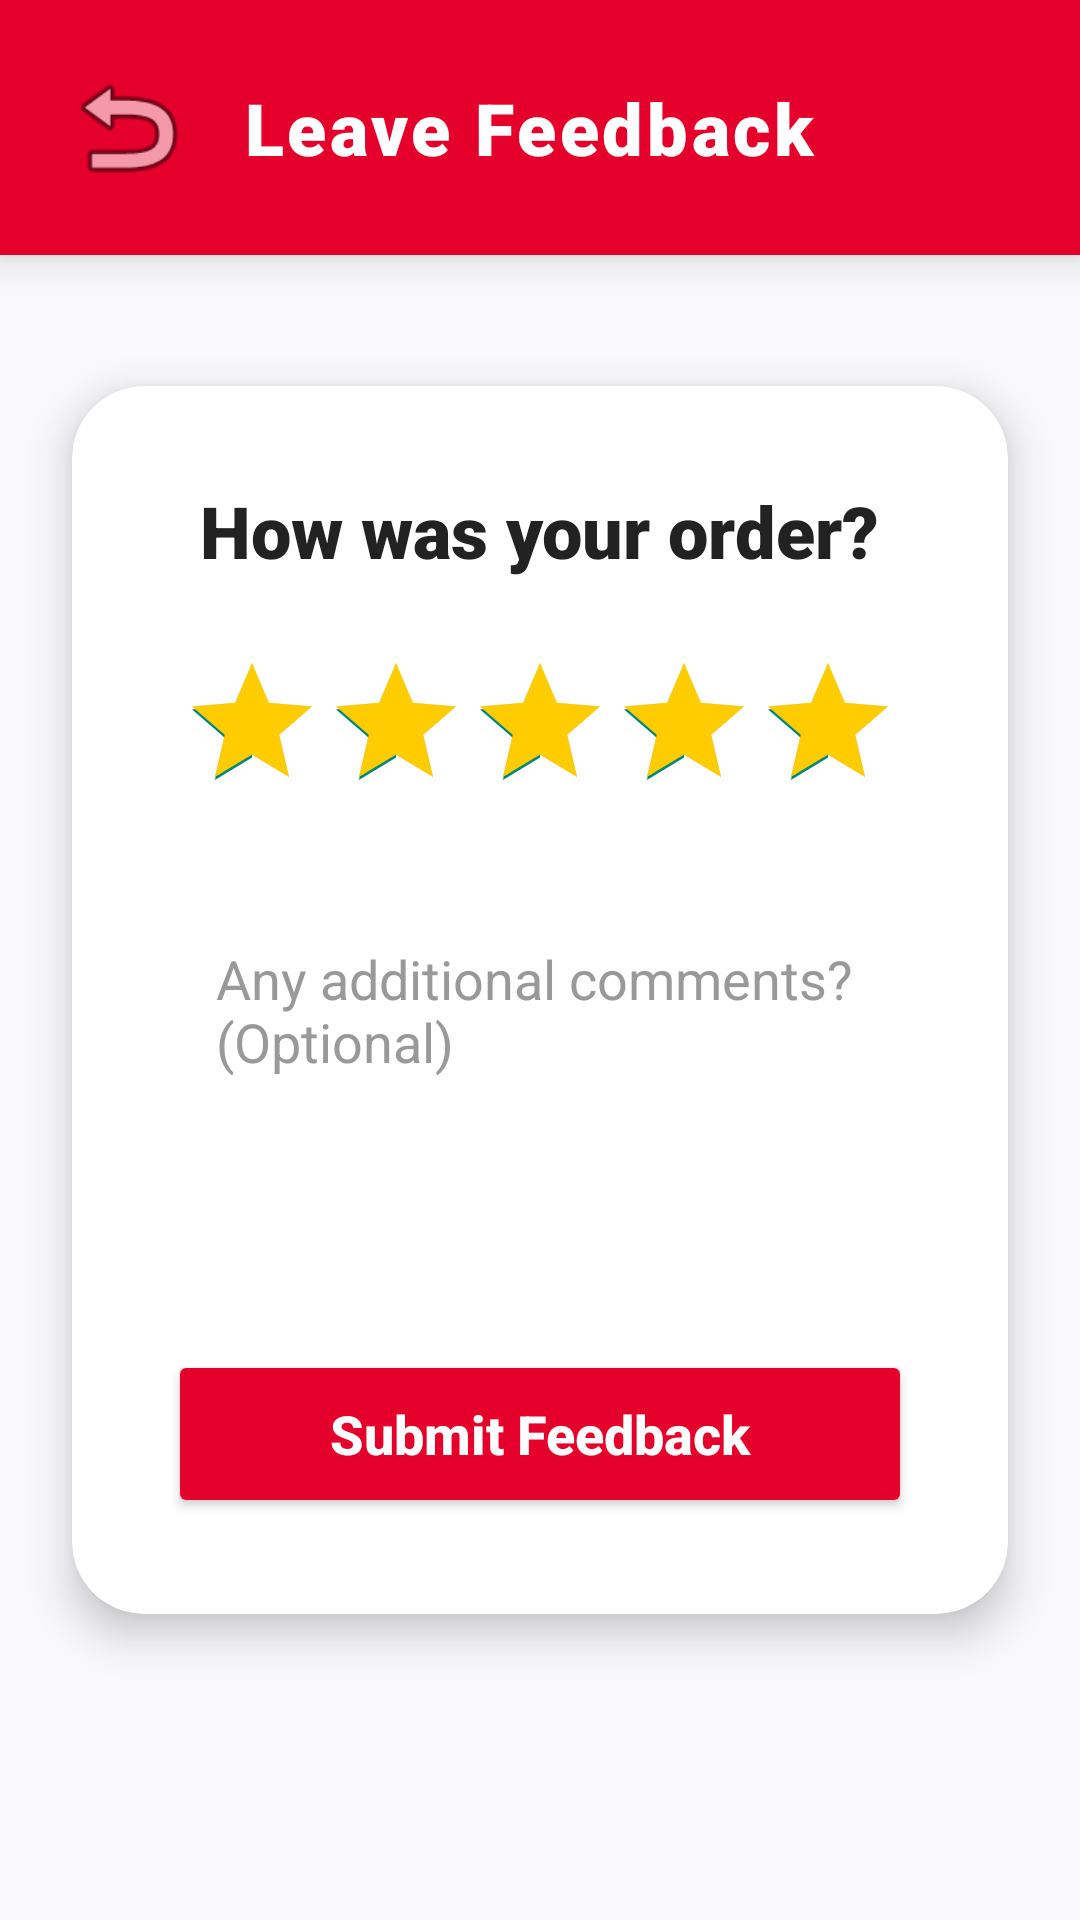

Icons on this 1080*1920 Android screen, each with its box as (x1, y1, x2, y2):
Back Button: (81, 84, 178, 173)
